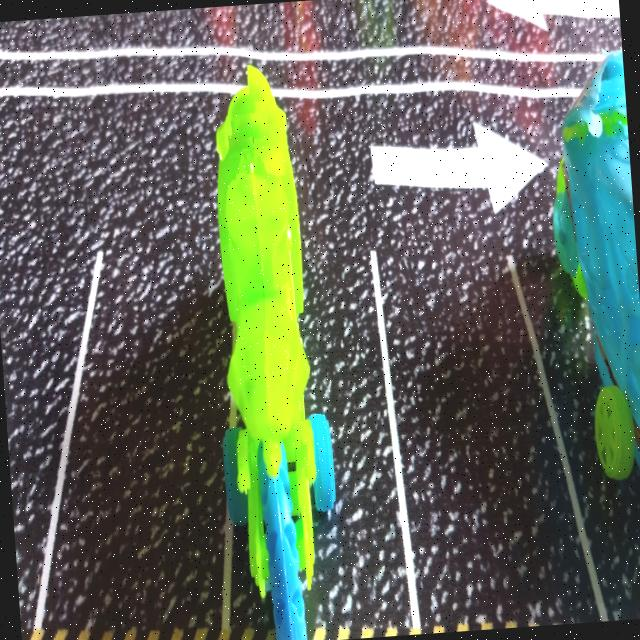occupied: (216, 65, 410, 640), (518, 51, 640, 618)
slots: (379, 239, 599, 630), (44, 267, 230, 640)
